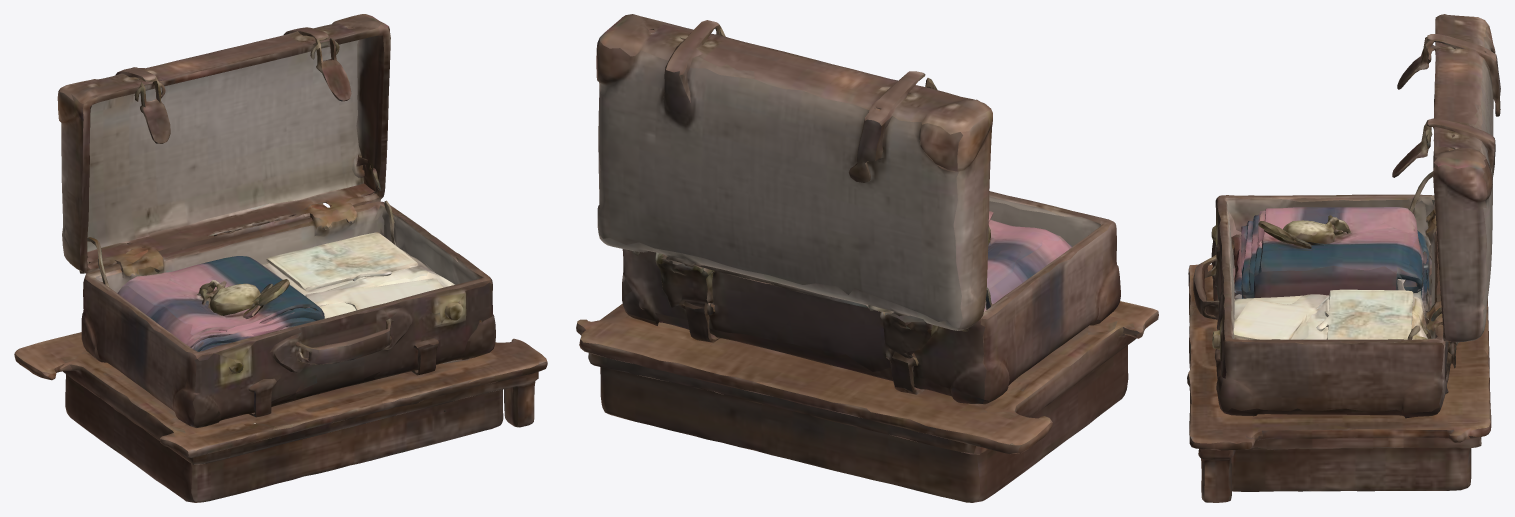
Rendered from lost-case.glb.
3 views of the same model, side by side, from view 1: azimuth 30°, elevation 25°; view 2: azimuth 150°, elevation 25°; view 3: azimuth 270°, elevation 25° (orthographic). The views are drawn at different scales.
Parts seen in each view (by area): view 1: geometry_0; view 2: geometry_0; view 3: geometry_0.
Boxes of the visible parts, <box> form: geometry_0: <box>14,14,547,502</box>; geometry_0: <box>576,14,1158,502</box>; geometry_0: <box>1187,14,1500,502</box>.
Bounding box in the file's own units: 0.5 × 0.4006 × 0.3393.
Materials: 1 (1 with a texture image).
